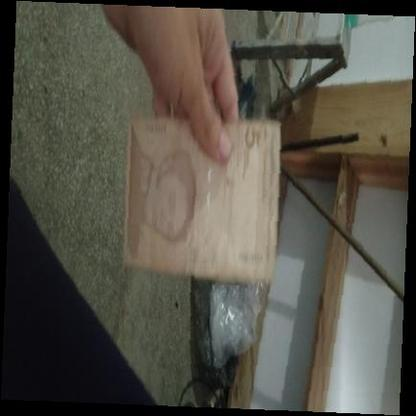five-front-vef: (124, 119, 282, 280)
